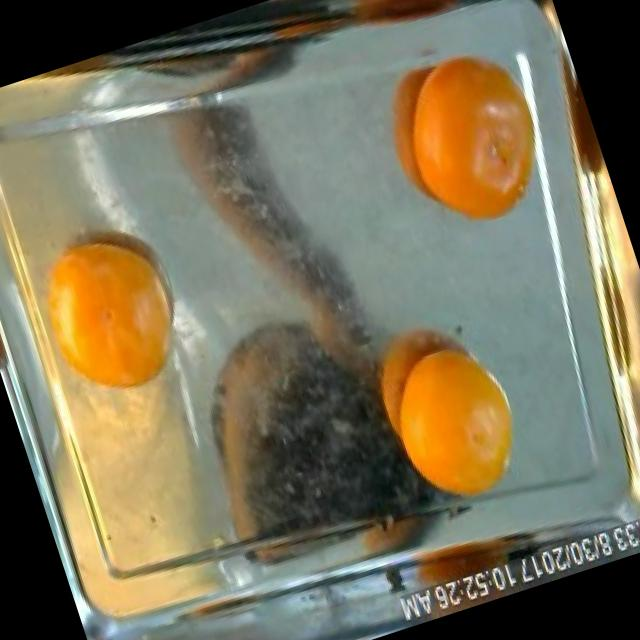Fruit: (355, 12, 582, 260), (48, 348, 260, 608), (354, 293, 548, 526)
